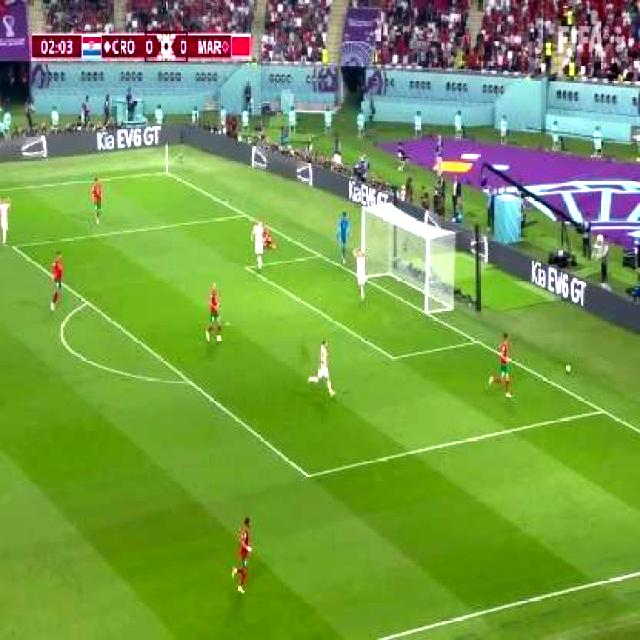bigarea_bottom_inner: (298, 462, 316, 488)
bigarea_bottom_outter: (594, 400, 609, 420)
bigarea_top_inner: (5, 236, 20, 256)
bigarea_top_outter: (237, 206, 251, 223)
bottom_arc_area_intersection: (182, 370, 198, 392)
corner: (157, 164, 172, 178)
smallarea_bottom_inner: (383, 343, 402, 369)
smallarea_bottom_outter: (468, 331, 483, 349)
smallarea_top_inner: (238, 257, 254, 278)
smallarea_top_outter: (311, 246, 326, 263)
top_arc_area_intersection: (77, 291, 94, 312)
